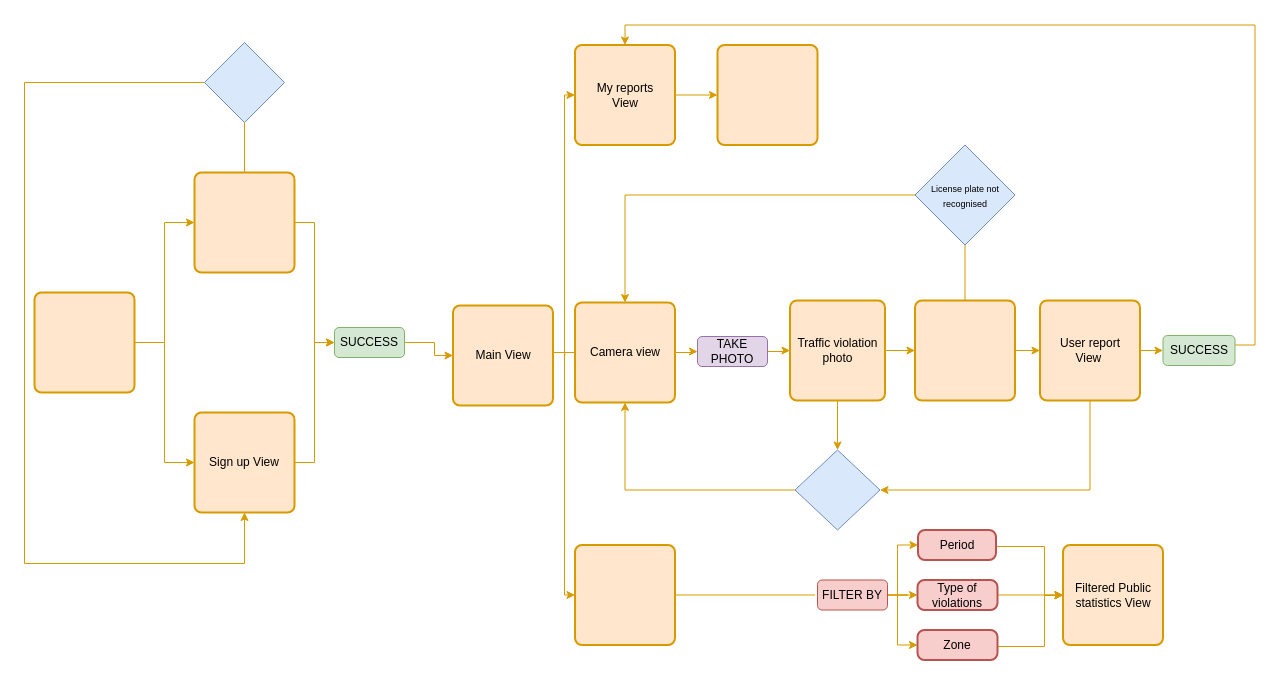
The diagram is 1281 pixels wide and 678 high, and some of its shapes have lost their labels. Here are the shapes that lost their labels. From the top down, the centre of each, then its label:
the point at 244,82: Don't have an account?
the point at 767,95: Detailed User report View
the point at 244,222: Login View
the point at 84,342: Welcome View
the point at 965,350: License plate recognition
the point at 837,489: Cancel User report
the point at 625,595: Public statistics View
